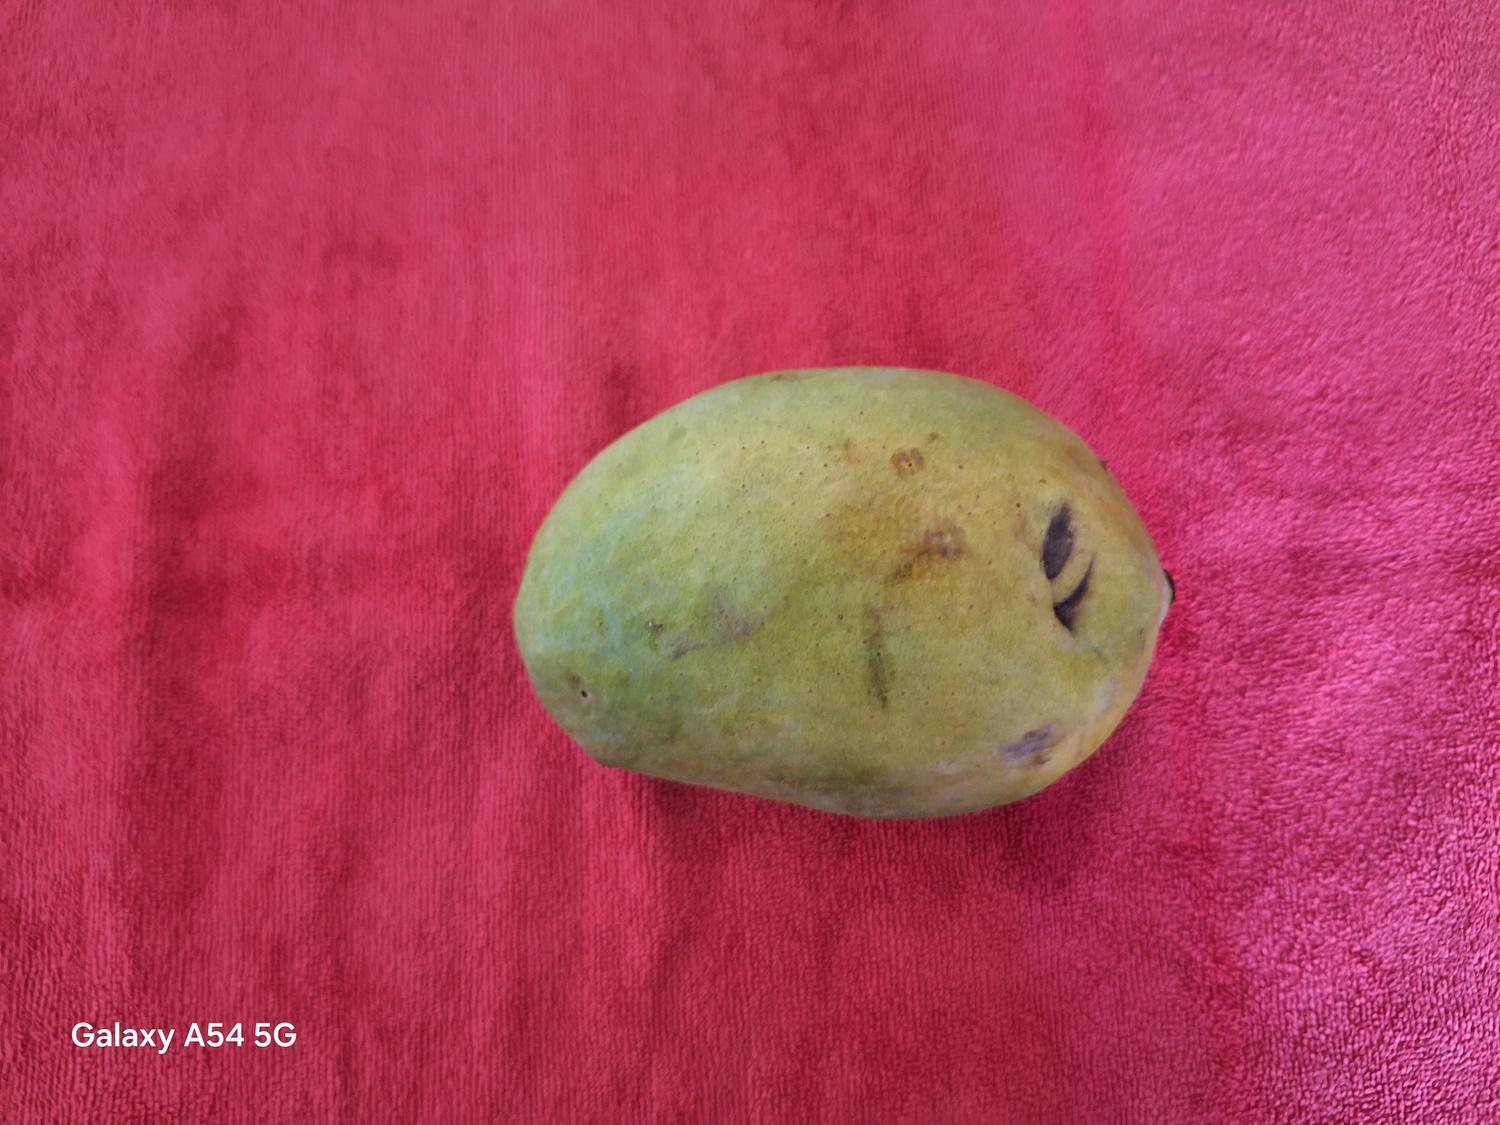mango: (511, 362, 1175, 820)
